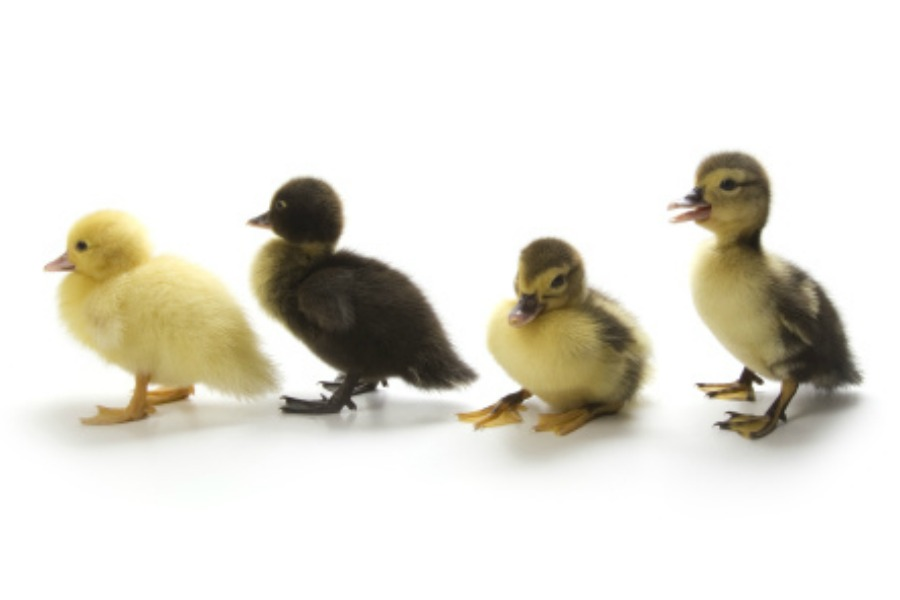duckling: (661, 151, 870, 443), (238, 180, 484, 415), (28, 206, 276, 432), (463, 233, 651, 444)
